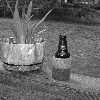beer: (53, 33, 71, 78)
